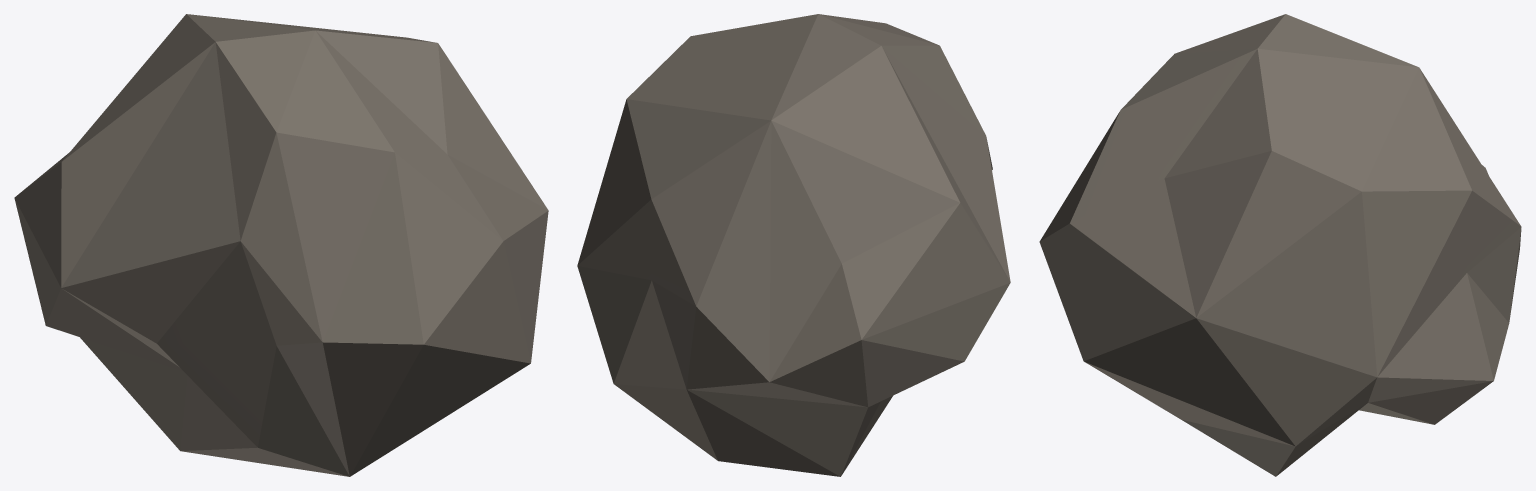
File: worlds_SM_Env_Asteroid_01.gltf
3 views of the same model, side by side, from view 1: azimuth 30°, elevation 25°; view 2: azimuth 150°, elevation 25°; view 3: azimuth 270°, elevation 25° (orthographic). The views are drawn at different scales.
Parts seen in each view (by area): view 1: SM_Env_Asteroid_01; view 2: SM_Env_Asteroid_01; view 3: SM_Env_Asteroid_01.
Part boxes in pixels (<box>): SM_Env_Asteroid_01: <box>14,14,548,476</box>; SM_Env_Asteroid_01: <box>577,14,1010,476</box>; SM_Env_Asteroid_01: <box>1039,14,1521,476</box>.
Size of the model in its own units: 12.69 by 12.45 by 13.73.
Materials: 1 (1 with a texture image).
